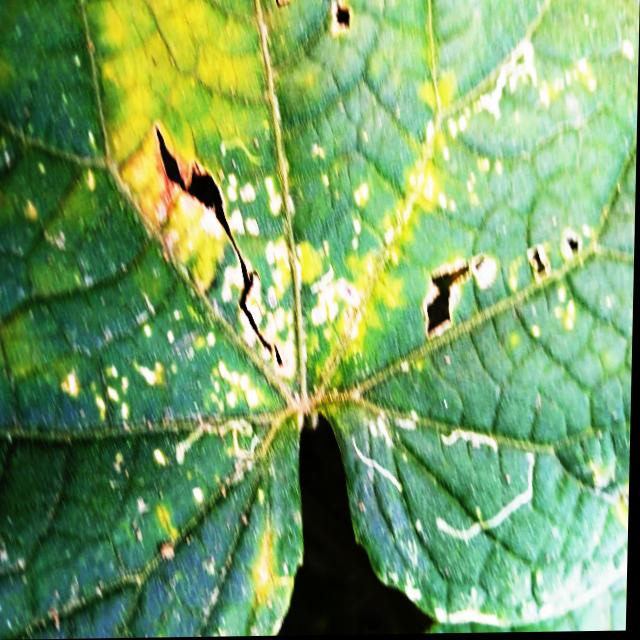Anthracnose: (418, 251, 486, 344), (329, 3, 356, 42)
